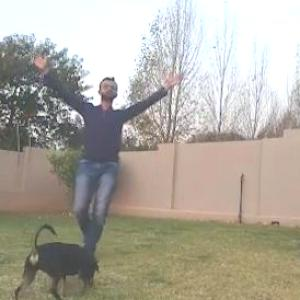takeoff: (0, 39, 186, 266)
